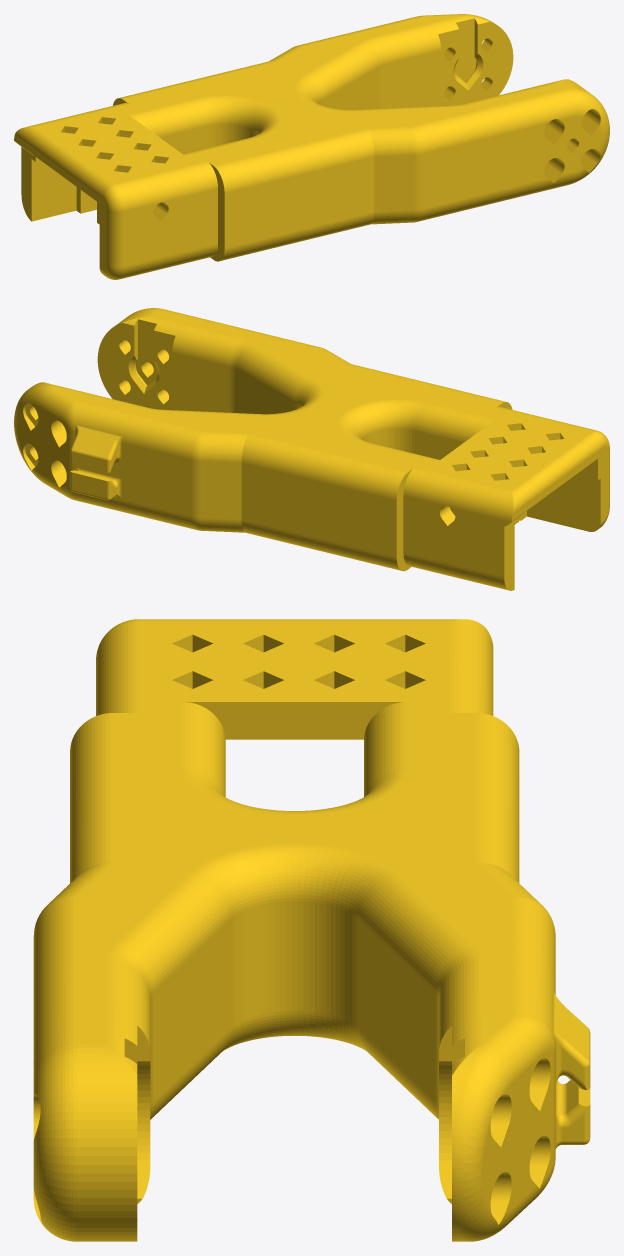
The model's file is under_arm_so101_v1.glb.
3 views of the same model, one above another, from view 1: azimuth 30°, elevation 25°; view 2: azimuth 150°, elevation 25°; view 3: azimuth 270°, elevation 25° (orthographic). The views are drawn at different scales.
Visible parts, largest first — view 1: under_arm_so101_v1; view 2: under_arm_so101_v1; view 3: under_arm_so101_v1.
Part boxes in pixels (left/top/right/bottom): under_arm_so101_v1: left=14, top=14, right=609, bottom=279; under_arm_so101_v1: left=14, top=308, right=609, bottom=590; under_arm_so101_v1: left=33, top=619, right=590, bottom=1241.
Bounding box in the file's own units: 0.1307 × 0.024 × 0.0644.
